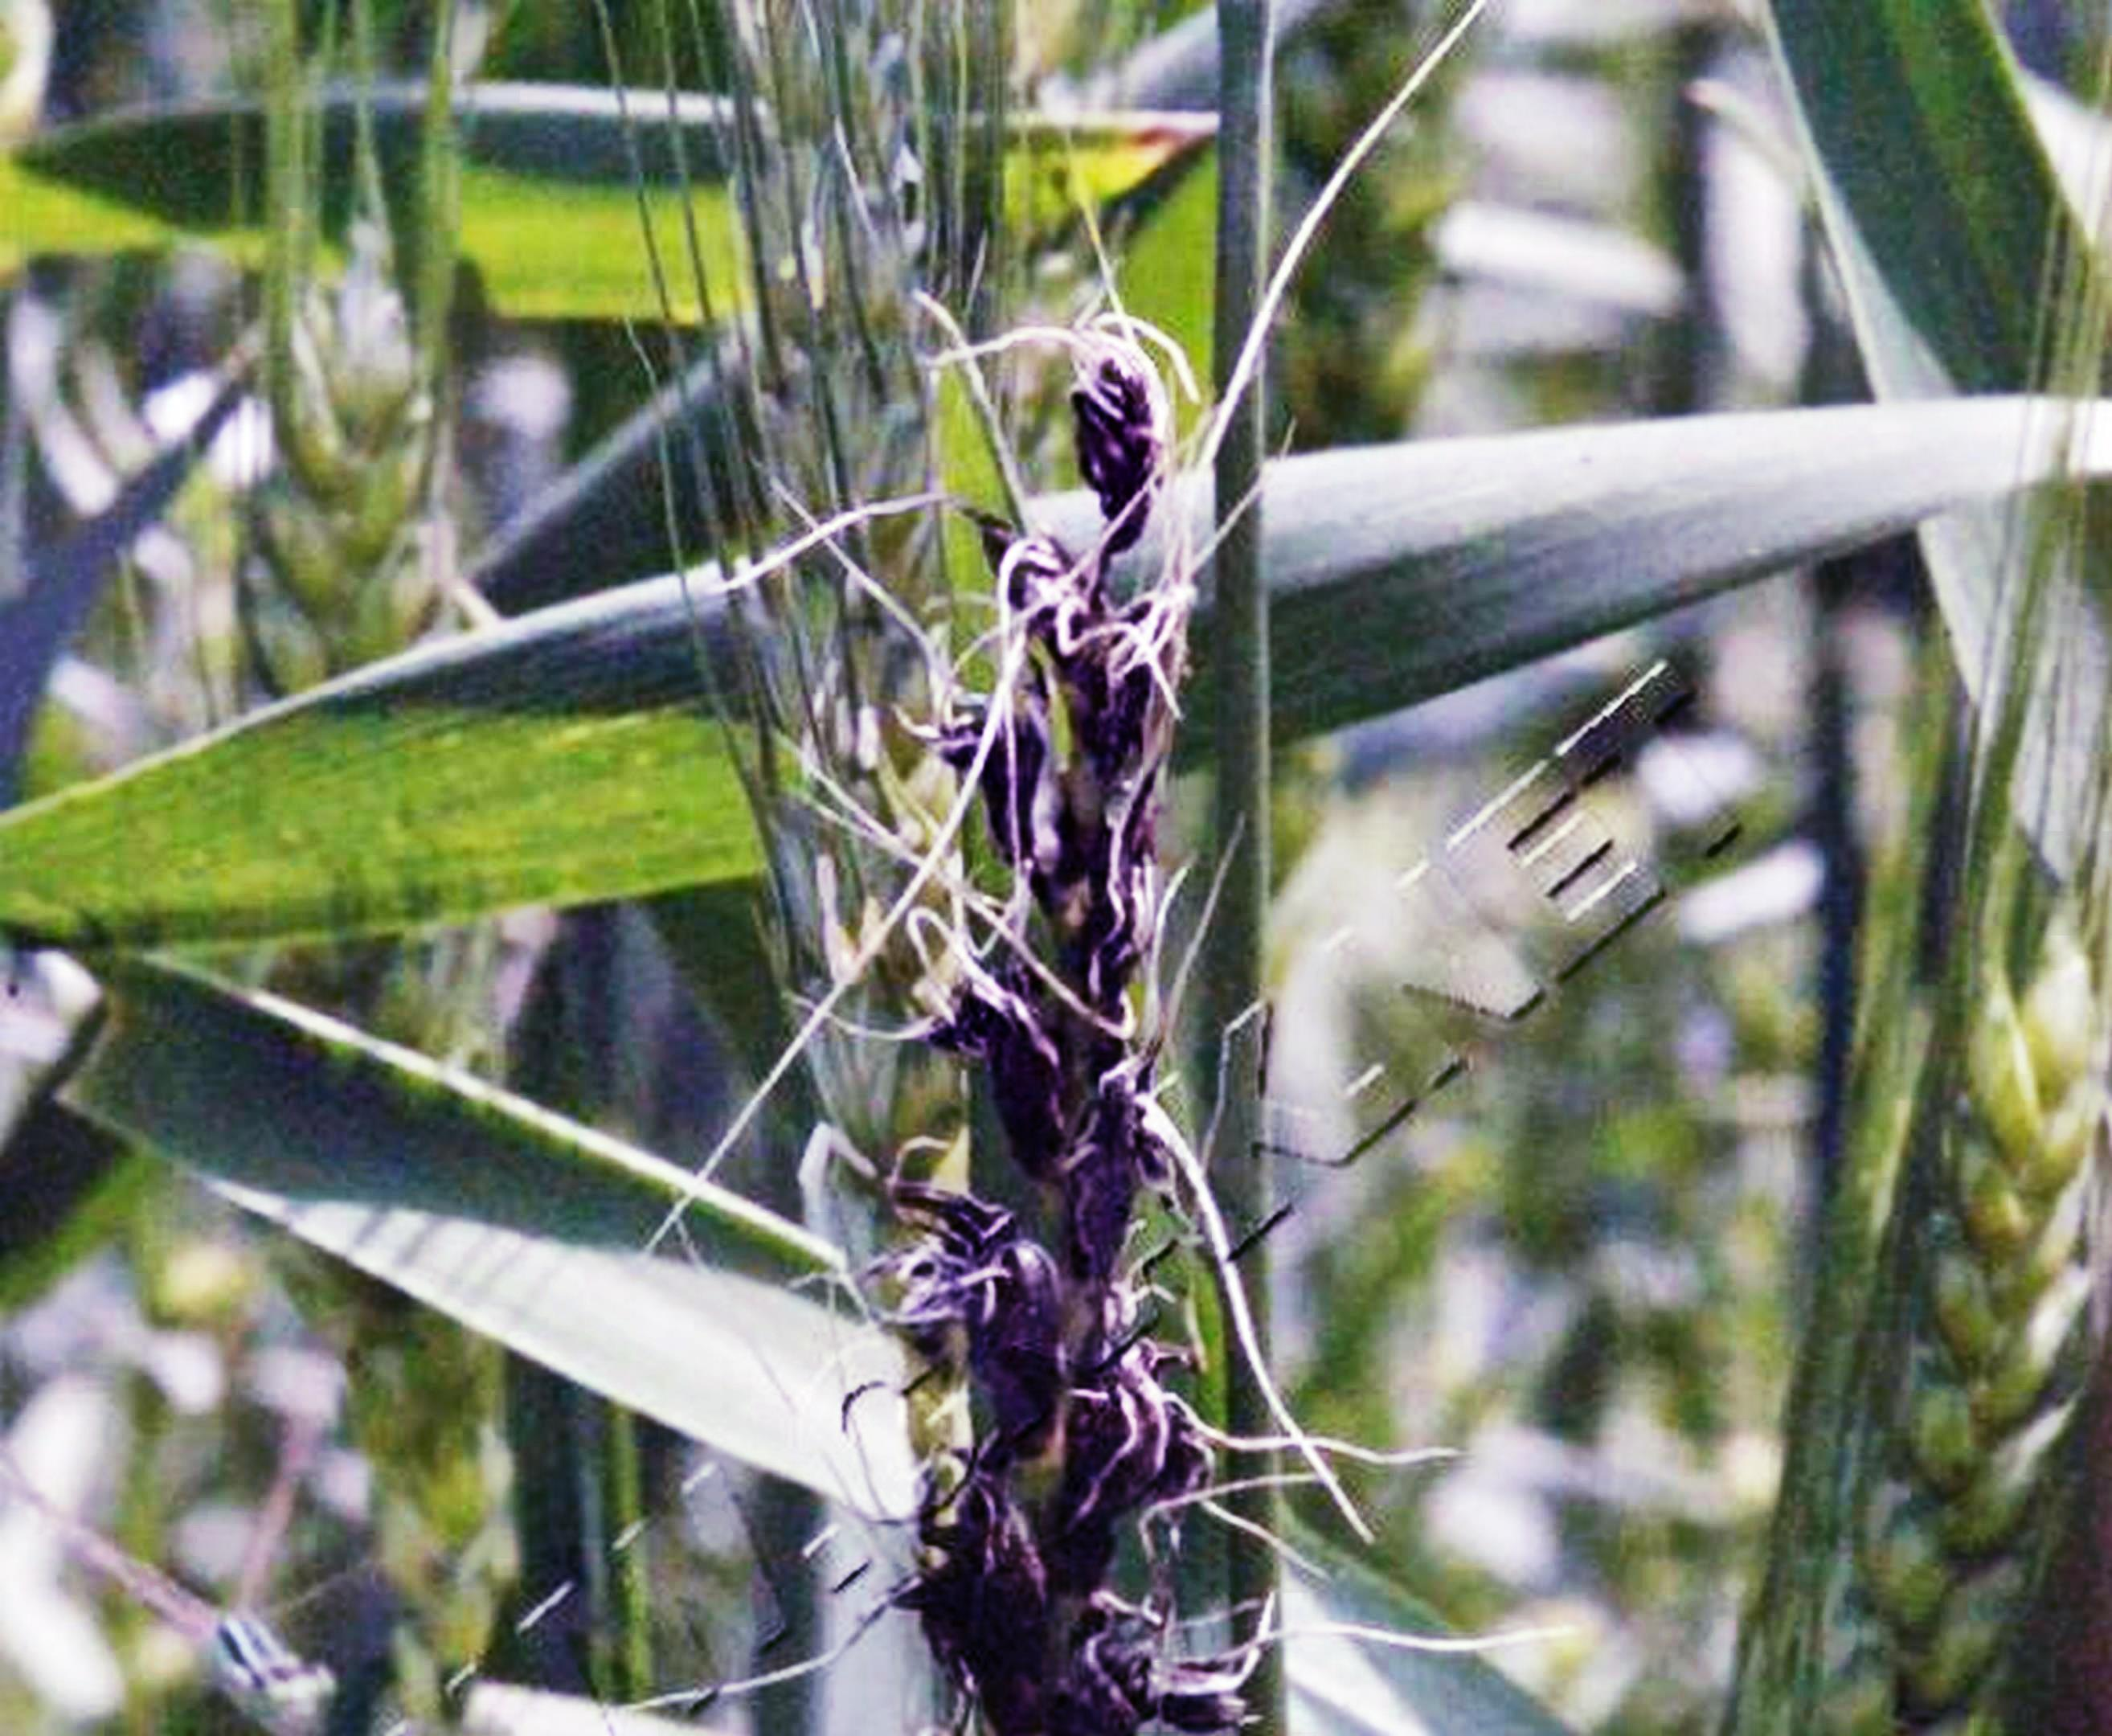Wheat Loose Smut: (903, 372, 1272, 1610)
